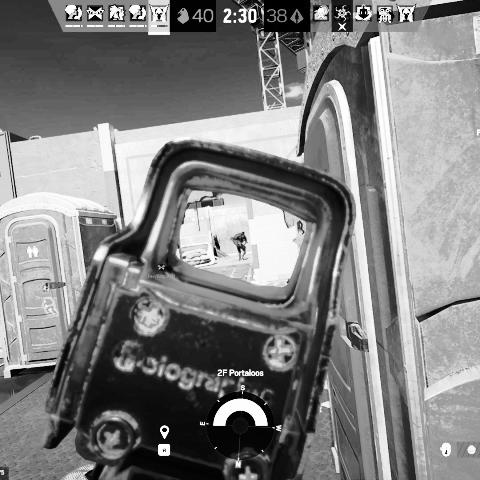Character: (234, 230, 248, 262)
Friend_label: (147, 263, 176, 279), (35, 284, 58, 300)
Head: (241, 231, 245, 236)
